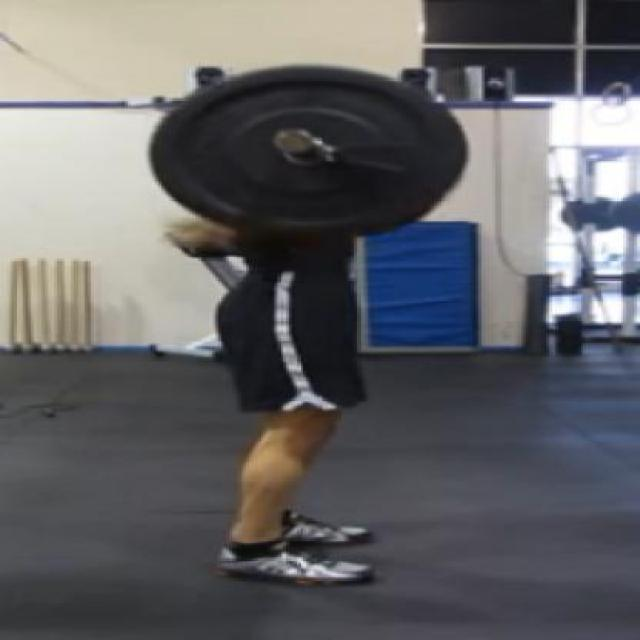barbell: (140, 59, 470, 244)
